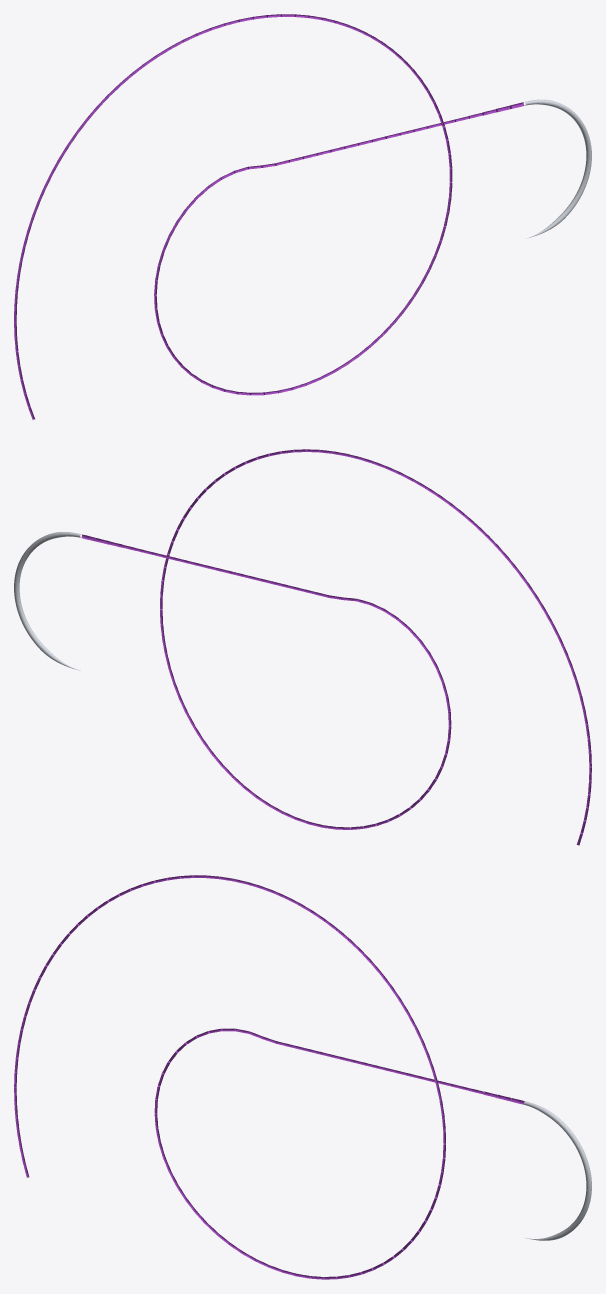
File: dranmar_needle_thread_coiled.glb
The picture shows the model from 3 angles, top to bottom: view 1: azimuth 30°, elevation 25°; view 2: azimuth 150°, elevation 25°; view 3: azimuth 330°, elevation 25°; orthographic projection.
Parts seen in each view (by area): view 1: Needle; view 2: Needle; view 3: Needle.
Part boxes in pixels (x1,y1,x2,y2): Needle: [525, 99, 591, 238]; Needle: [14, 532, 80, 670]; Needle: [524, 1101, 591, 1240].
Size of the model in its own units: 0.0627 by 0.0396 by 0.0019.
